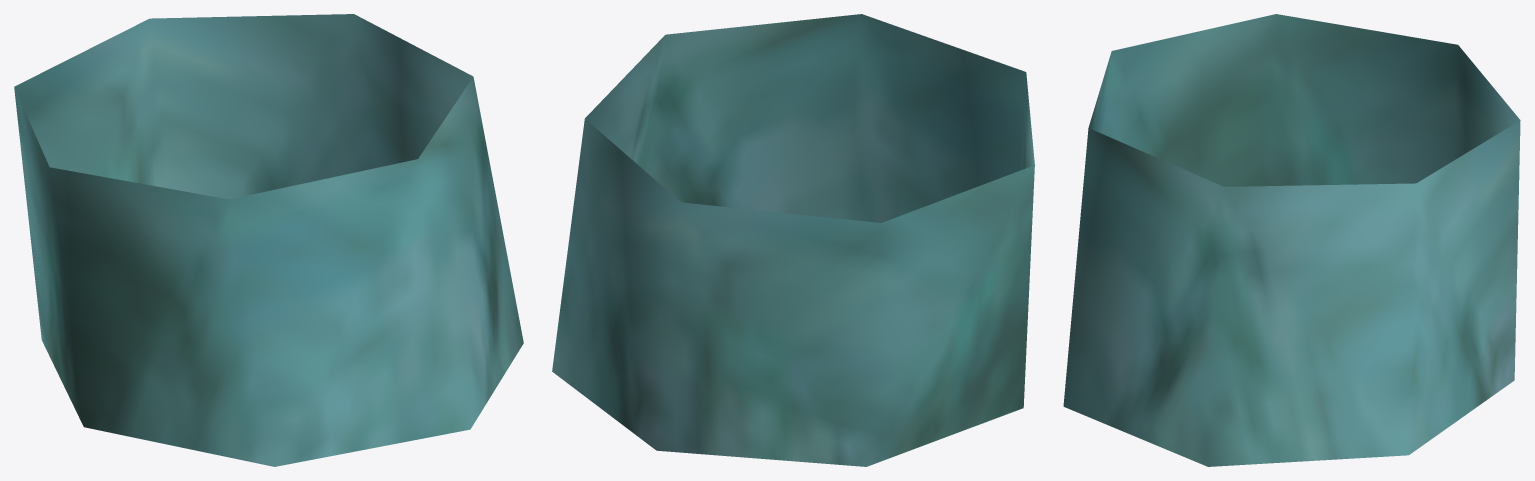
Rendered from EKH_GROTTO_PS_GR_OBJECT50.fbx.
3 views of the same model, side by side, from view 1: azimuth 30°, elevation 25°; view 2: azimuth 150°, elevation 25°; view 3: azimuth 270°, elevation 25° (orthographic). The views are drawn at different scales.
Parts seen in each view (by area): view 1: EKH_GROTTO_PS_GR_OBJECT50; view 2: EKH_GROTTO_PS_GR_OBJECT50; view 3: EKH_GROTTO_PS_GR_OBJECT50.
Boxes of the visible parts, x1,y1,x2,y2 form: EKH_GROTTO_PS_GR_OBJECT50: (14, 14, 523, 466); EKH_GROTTO_PS_GR_OBJECT50: (552, 14, 1034, 466); EKH_GROTTO_PS_GR_OBJECT50: (1063, 14, 1520, 466).
Bounding box in the file's own units: 25722 × 15168 × 24131.
1 material, 1 textured.
